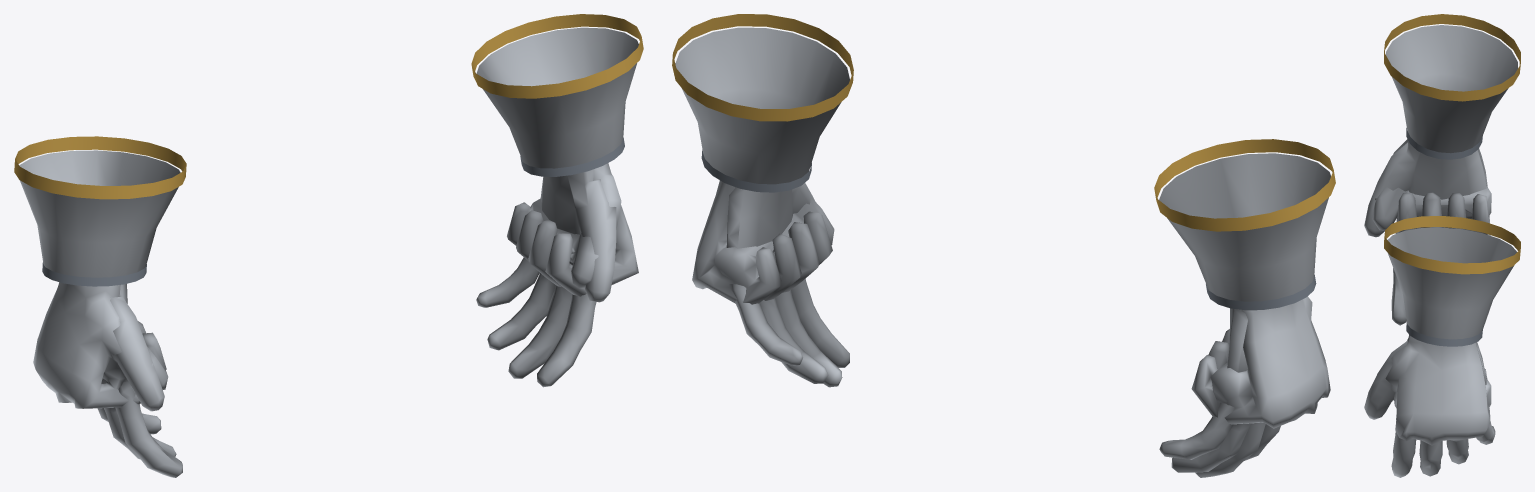
File: g_royalplate.glb
3 renders of one model, left to right at view 1: azimuth 30°, elevation 25°; view 2: azimuth 150°, elevation 25°; view 3: azimuth 270°, elevation 25°, orthographic. The views are drawn at different scales.
Visible parts, largest first — view 1: ArmL_Gauntlet, ArmR_Gauntlet, ArmL_HandOpen, ArmR_Hand, ArmL_Hand, ArmR_HandOpen; view 2: ArmL_Gauntlet, ArmR_Gauntlet, ArmR_Hand, ArmL_HandOpen, ArmL_Hand, ArmR_HandOpen; view 3: ArmR_Gauntlet, ArmL_Gauntlet, ArmL_Hand, ArmR_HandOpen, ArmL_HandOpen, ArmR_Hand.
Part boxes in pixels (x1,y1,x2,y2): ArmL_Gauntlet: (471, 14, 643, 176); ArmR_Gauntlet: (14, 136, 186, 286); ArmL_HandOpen: (476, 169, 616, 387); ArmR_Hand: (33, 282, 168, 408); ArmL_Hand: (507, 163, 638, 296); ArmR_HandOpen: (97, 284, 182, 477); ArmL_Gauntlet: (672, 14, 853, 192); ArmR_Gauntlet: (1154, 139, 1335, 310); ArmR_Hand: (1191, 296, 1330, 428); ArmL_HandOpen: (726, 183, 849, 387); ArmL_Hand: (692, 180, 834, 304); ArmR_HandOpen: (1159, 308, 1280, 477); ArmR_Gauntlet: (1384, 14, 1520, 159); ArmL_Gauntlet: (1384, 216, 1520, 346); ArmL_Hand: (1385, 335, 1491, 445); ArmR_HandOpen: (1364, 141, 1490, 325); ArmL_HandOpen: (1364, 335, 1495, 477); ArmR_Hand: (1372, 139, 1491, 234).
Size of the model in its own units: 0.6032 by 0.3011 by 0.1606.
